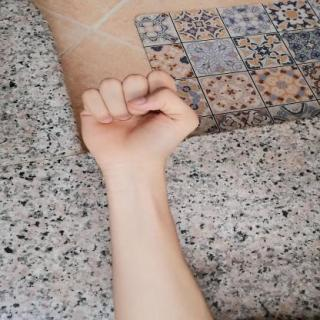SAD: (65, 60, 209, 177)
